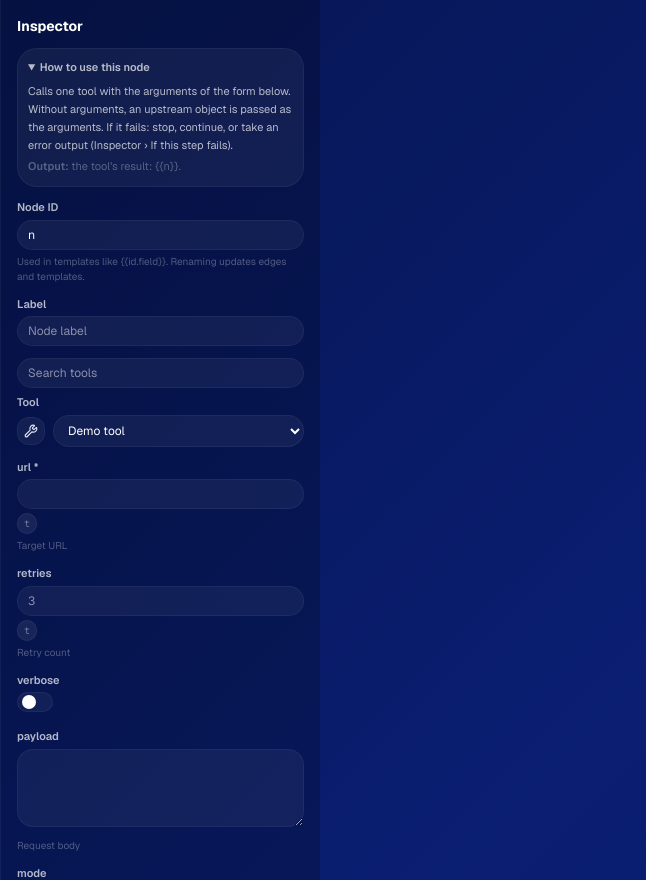
Test: generated tool args form › switching the picker to another tool fetches and renders that tool's own fields
Check: the field labelled "url * t" is shown, box [17,479,304,509]
Select "Other tool" in the dropdown labelled "Tool" at point(178, 431), box [53,415,304,447]
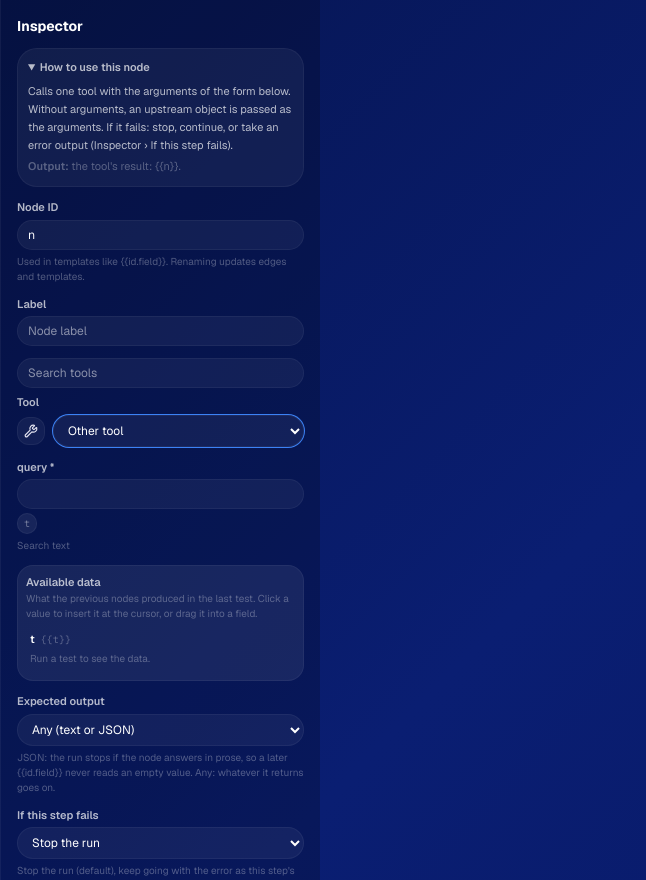
Check: the field labelled "query * t" is shown, box [17,479,304,509]
Check: the text labelled "url *" is gone
